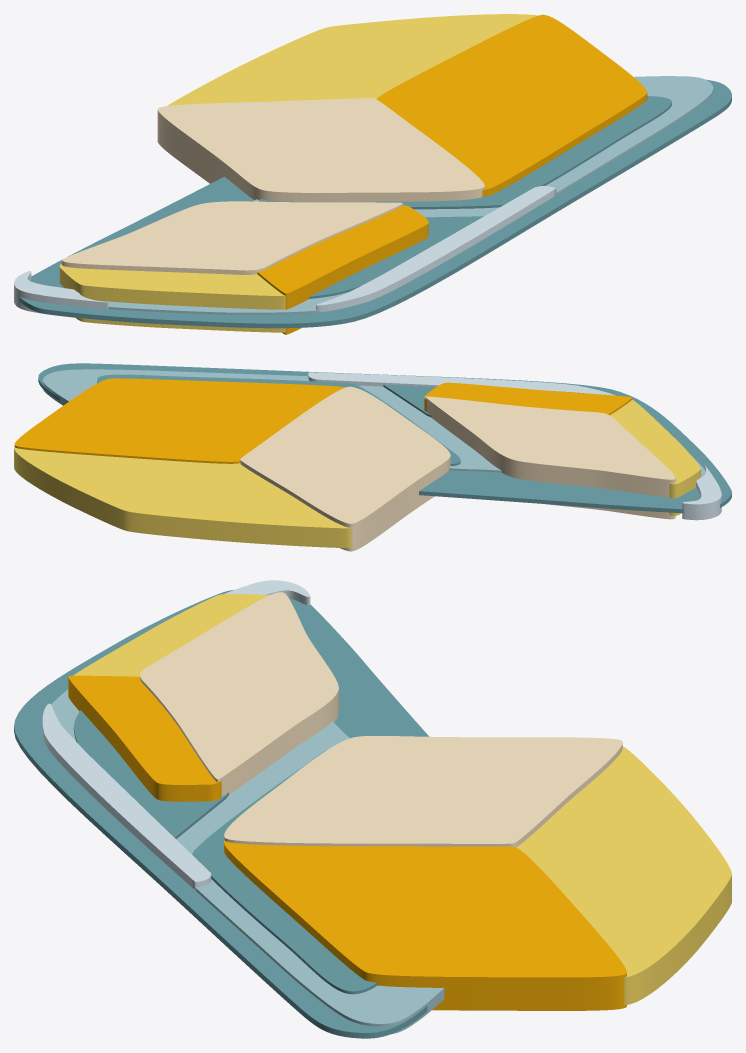
The model's file is emoji_u1f9c8.glb.
3 views of the same model, one above another, from view 1: azimuth 30°, elevation 25°; view 2: azimuth 150°, elevation 25°; view 3: azimuth 270°, elevation 25° (orthographic). The views are drawn at different scales.
Visible parts, largest first — view 1: emoji_u1f9c8; view 2: emoji_u1f9c8; view 3: emoji_u1f9c8.
Boxes of the visible parts, box(x1,y1,x2,y2) form: emoji_u1f9c8: box(14, 14, 731, 334); emoji_u1f9c8: box(14, 363, 731, 551); emoji_u1f9c8: box(14, 580, 731, 1038).
Size of the model in its own units: 0.0341 by 0.002 by 0.0233.
